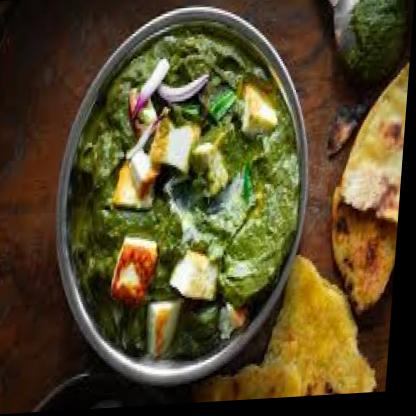palak_paneer: (61, 26, 312, 368)
